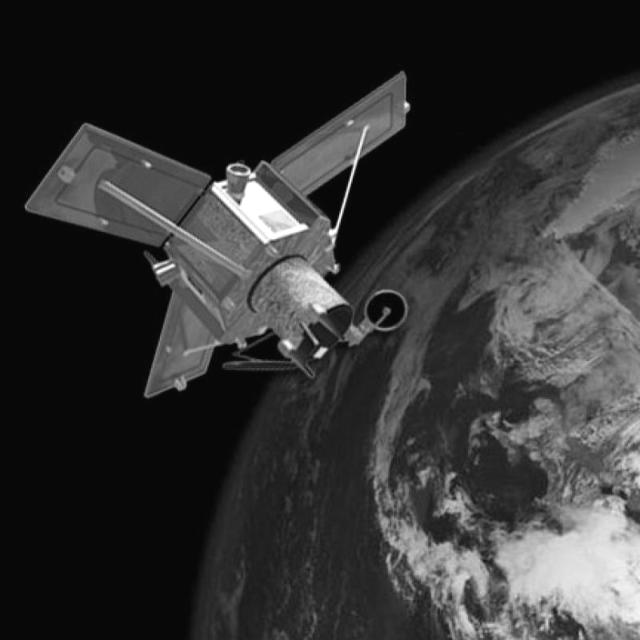medium_debris: (19, 54, 424, 429)
